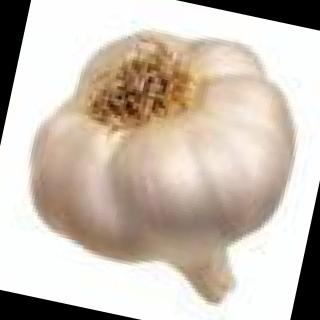Bawang Putih: (4, 1, 318, 320)
